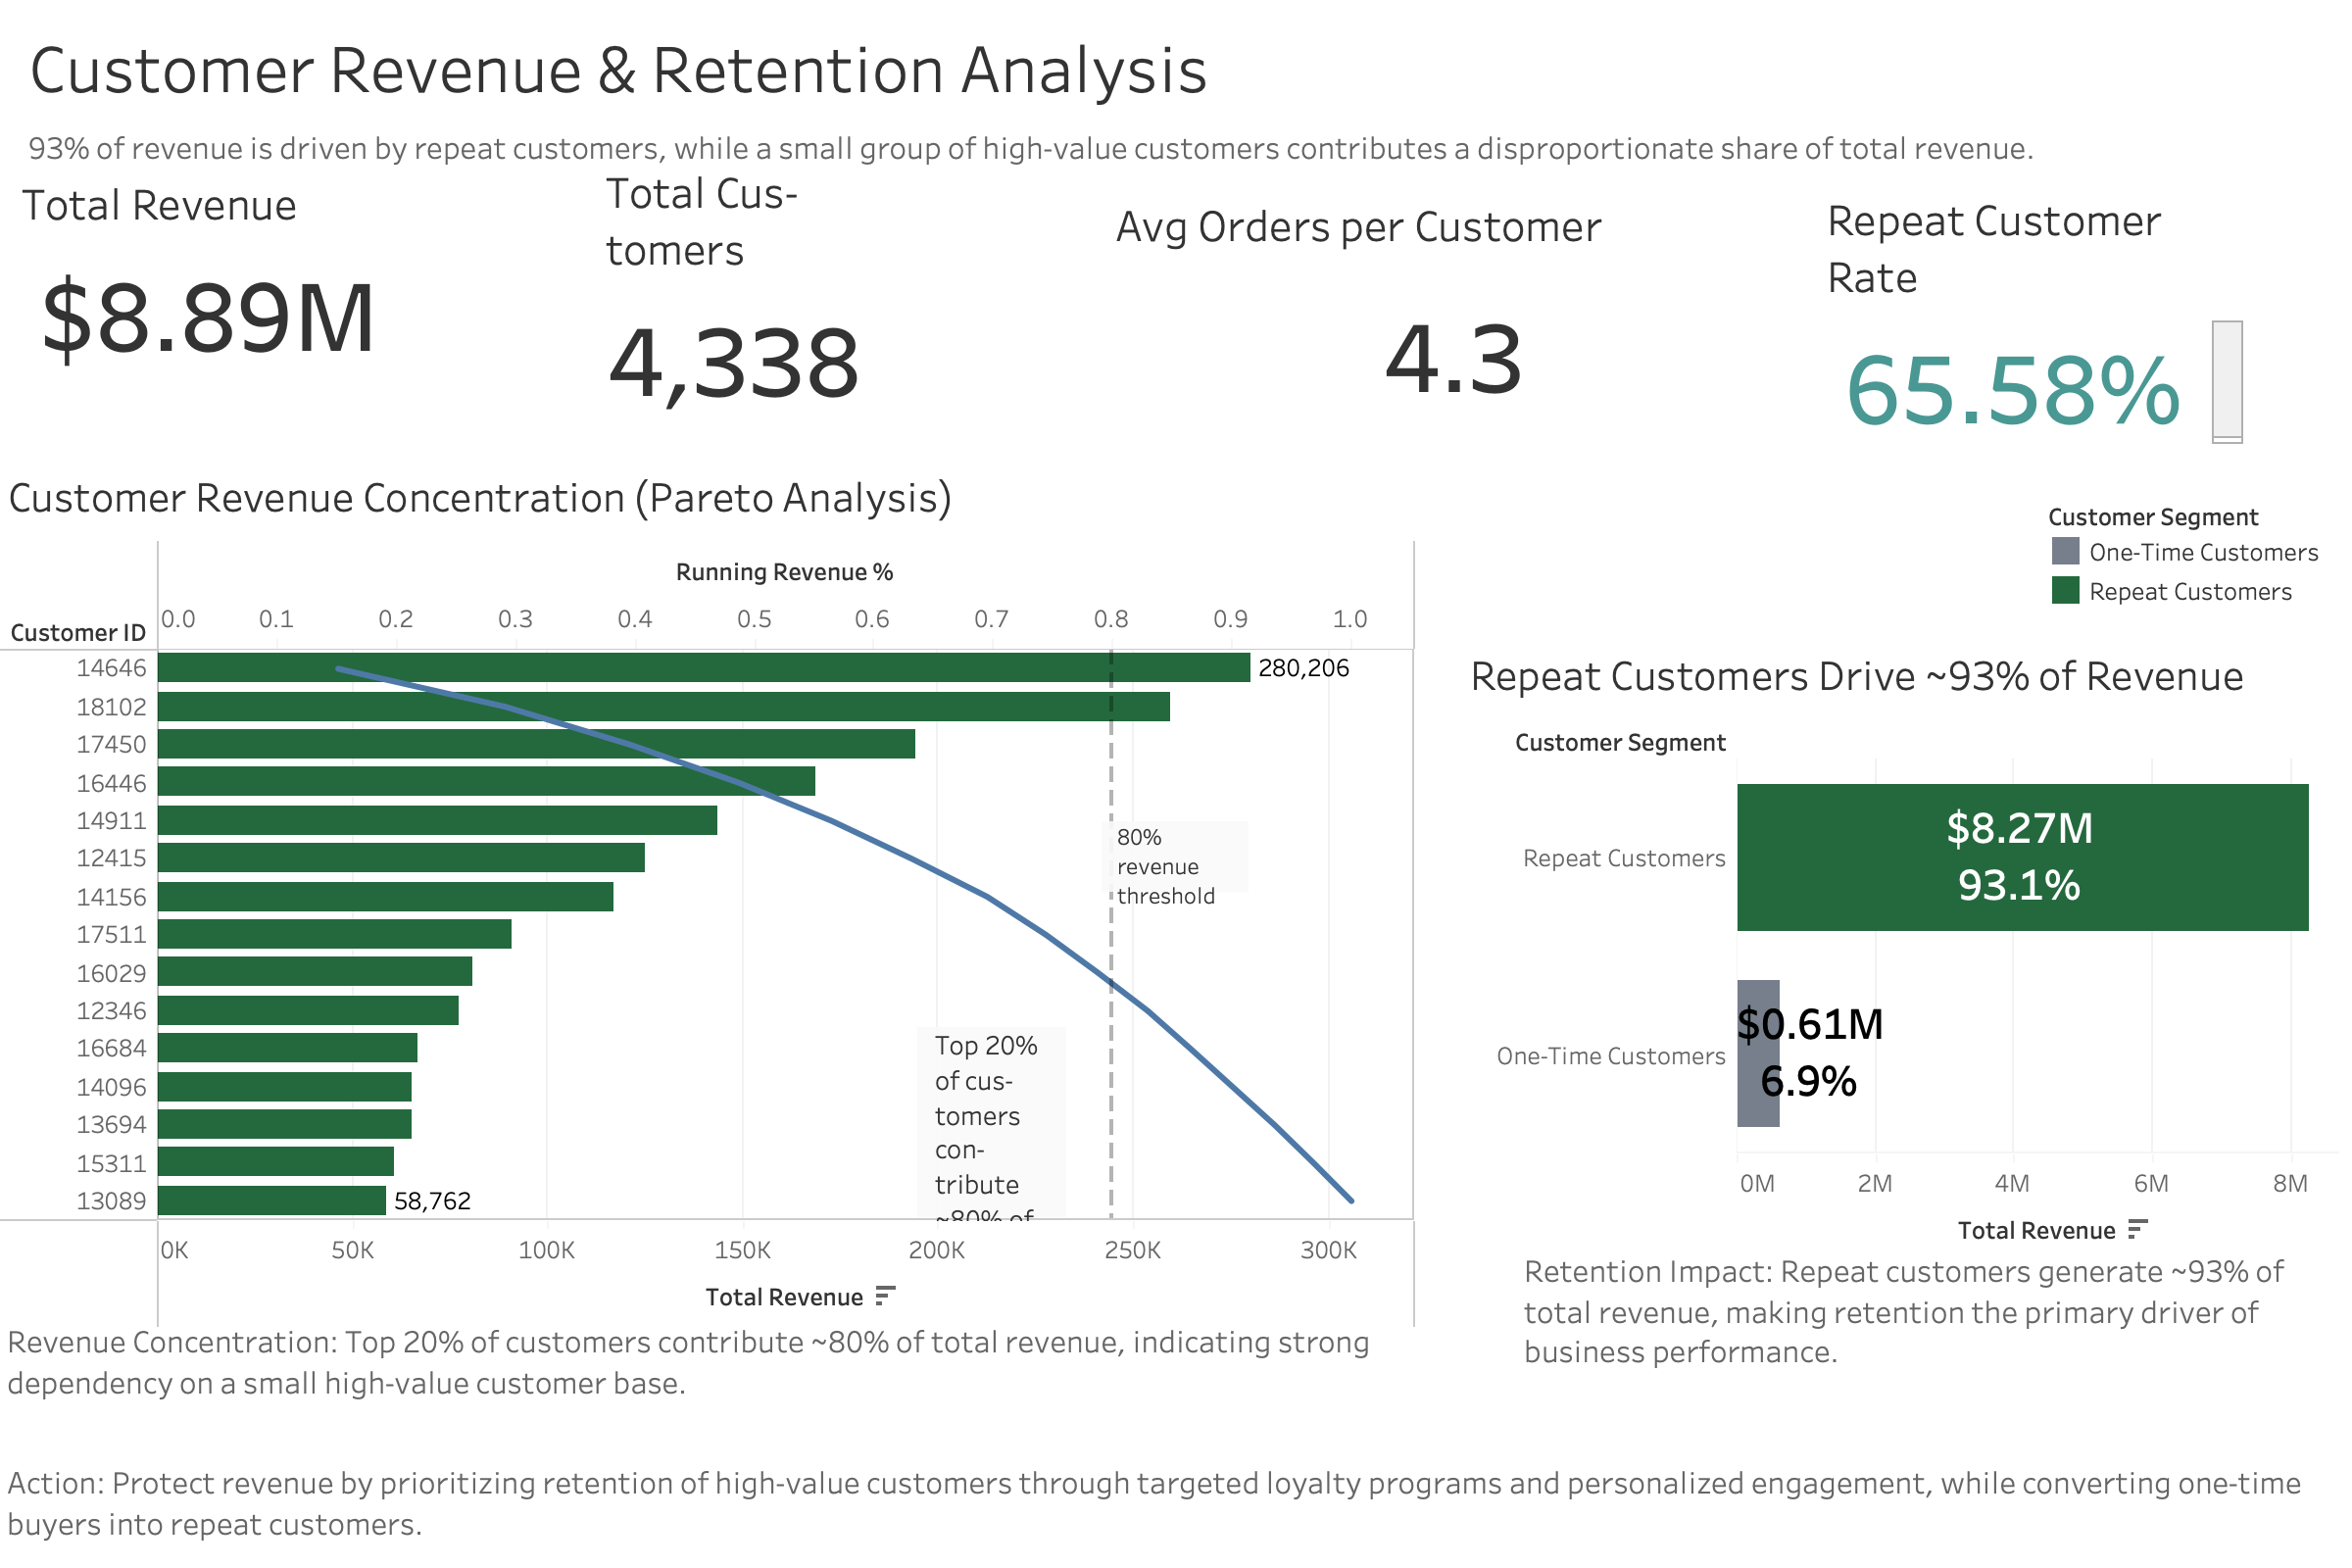

The dashboard page shown, as its layout file describes it:
{"tool":"tableau","page":{"name":"Customer Revenue & Retention Dashboard","canvas":[1200,800],"ordinal":0},"visuals":[{"type":"title","box":[8,8,1184,53]},{"type":"text","box":[8,61,1184,29]},{"type":"worksheet","title":"Total Customers","mark":"Automatic","box":[305,77,261,140]},{"type":"worksheet","title":"Total Revenue","mark":"Automatic","box":[7,83,217,136]},{"type":"worksheet","title":"Repeat Customer Rate","mark":"Automatic","box":[928,91,260,135]},{"type":"worksheet","title":"Avg Orders per Customer","mark":"Automatic","box":[565,94,354,131]},{"type":"worksheet","title":"Customer Revenue Concentration (Pareto Analysis)","mark":"Bar","rows":["CustomerID"],"cols":["total_revenue"],"box":[0,233,722,445]},{"type":"legend","title":"Revenue by Customer Segment","param":"[federated.0lliaep13ntaiy10cjn4v0nm1lbf].[none:Calculation_0862617394352128:nk]","box":[1044,253,144,58]},{"type":"worksheet","title":"Revenue by Customer Segment","mark":"Bar","rows":["Calculation_0862617394352128"],"cols":["total_revenue"],"box":[746,324,447,319]},{"type":"text","box":[775,627,425,84]},{"type":"text","box":[1,664,722,62]}]}

Visuals, with their boxes in screenshot pixels (x1, y1, x2, y2), scaled from the page's 1200x800 canvas onto the 2352x1568 screenshot:
title: box=[16, 16, 2336, 120]
text: box=[16, 120, 2336, 176]
"Total Customers" worksheet: box=[598, 151, 1109, 425]
"Total Revenue" worksheet: box=[14, 163, 439, 429]
"Repeat Customer Rate" worksheet: box=[1819, 178, 2328, 443]
"Avg Orders per Customer" worksheet: box=[1107, 184, 1801, 441]
"Customer Revenue Concentration (Pareto Analysis)" worksheet (Bar marks): box=[0, 457, 1415, 1329]
"Revenue by Customer Segment" legend: box=[2046, 496, 2328, 610]
"Revenue by Customer Segment" worksheet (Bar marks): box=[1462, 635, 2338, 1260]
text: box=[1519, 1229, 2351, 1394]
text: box=[2, 1301, 1417, 1423]
